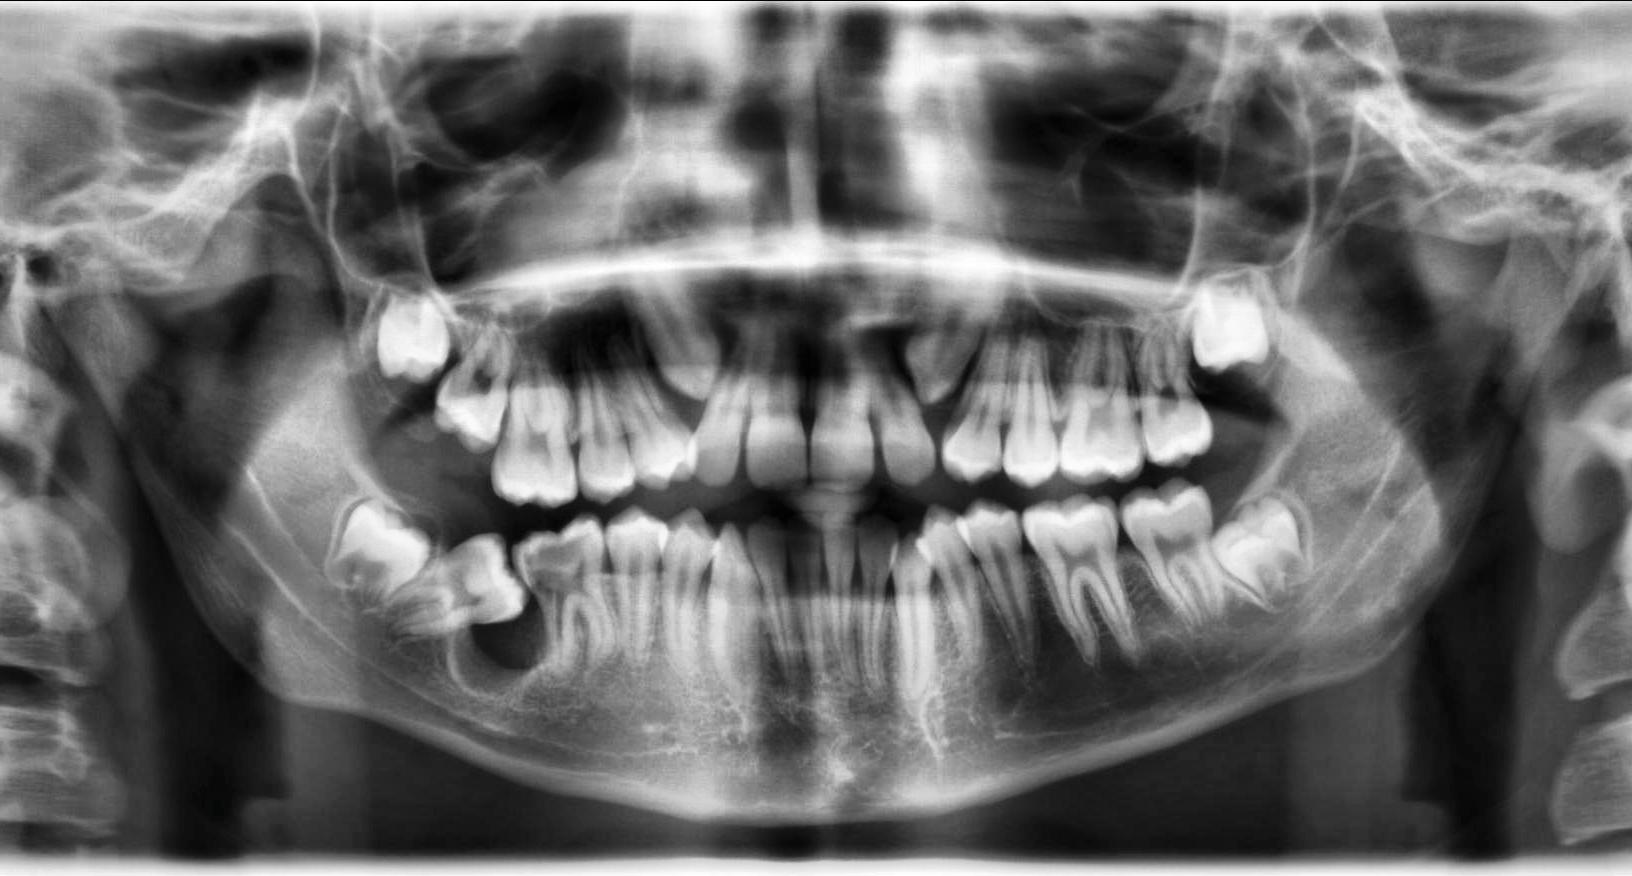enflamatuar: (449, 577, 575, 700)
